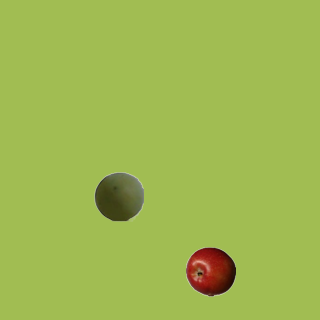Apple Braeburn: (185, 246, 235, 296)
Grape White 4: (93, 171, 143, 221)
